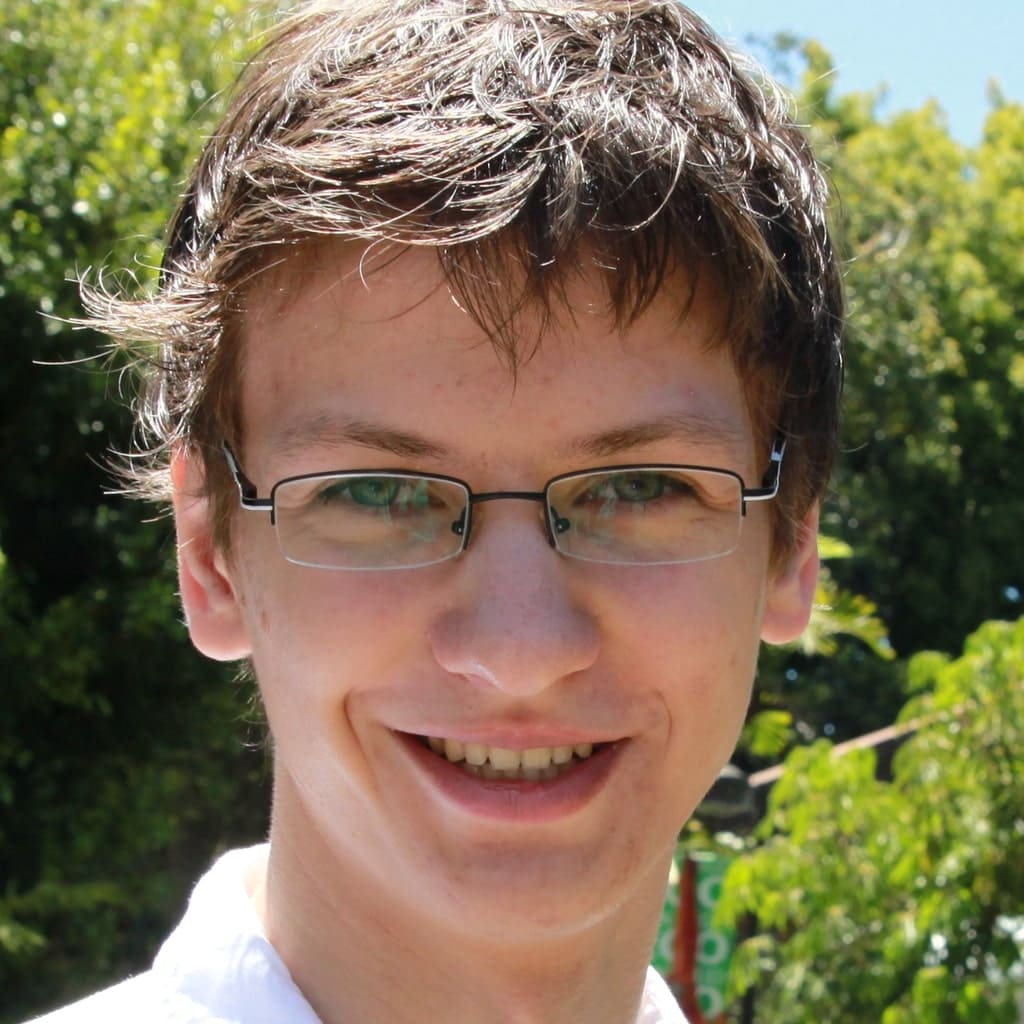without_mask: (222, 263, 772, 844)
